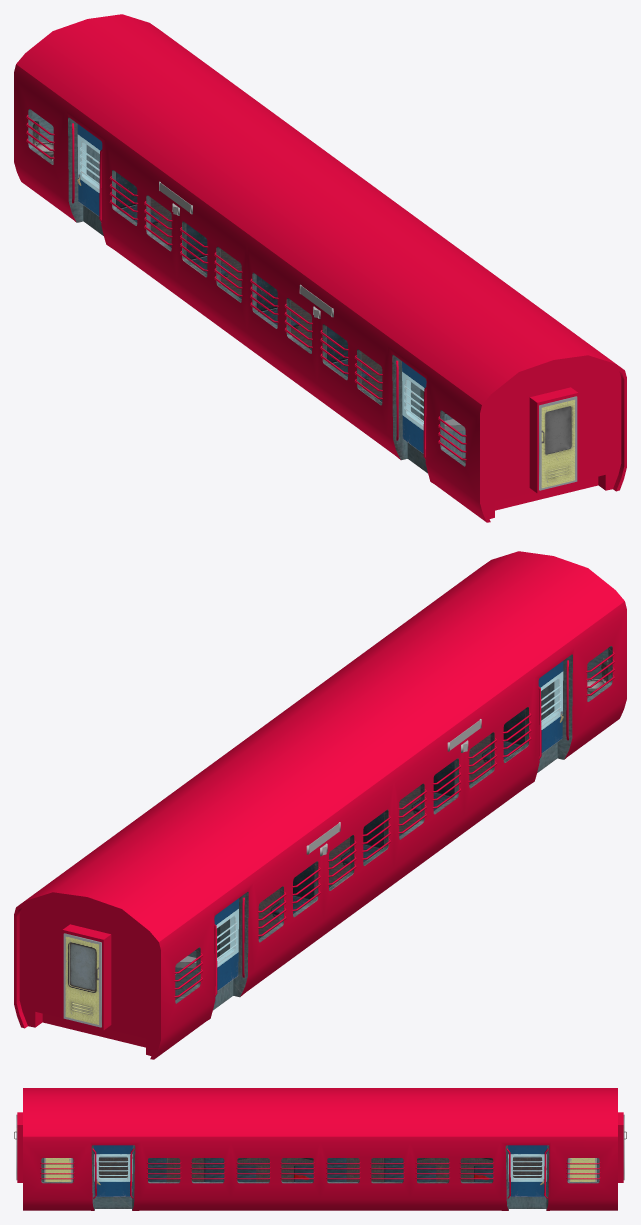
File: indian-coach.glb
3 renders of one model, top to bottom at view 1: azimuth 30°, elevation 25°; view 2: azimuth 150°, elevation 25°; view 3: azimuth 270°, elevation 25°, orthographic. The views are drawn at different scales.
Parts seen in each view (by area): view 1: Train_Prefab__1__Variant, Coach_door__1__1, Compartment_Door__1_, Compartment_Door__2_, Seats1, Seats1_1, Seats2, Seats2_1; view 2: Train_Prefab__1__Variant, Coach_door__1_, Compartment_Door__2_, Compartment_Door__1_, Seats1_1, Seats1, Seats2, Seats2_1; view 3: Train_Prefab__1__Variant, Compartment_Door__1__1, Compartment_Door, Seats2, Seats2_1, Seats1_1, Seats1, Bathroom_Door__2_, Bathroom_Door__1_.
Part boxes in pixels (x1,y1,x2,y2): Train_Prefab__1__Variant: [14, 14, 626, 522]; Coach_door__1__1: [539, 396, 577, 490]; Compartment_Door__1_: [77, 124, 102, 216]; Compartment_Door__2_: [402, 361, 426, 453]; Seats1: [116, 172, 171, 247]; Seats1_1: [256, 275, 311, 350]; Seats2: [186, 223, 241, 298]; Seats2_1: [326, 326, 382, 401]; Train_Prefab__1__Variant: [14, 551, 626, 1059]; Coach_door__1_: [63, 933, 101, 1027]; Compartment_Door__2_: [538, 661, 563, 753]; Compartment_Door__1_: [214, 898, 238, 990]; Seats1_1: [399, 760, 454, 835]; Seats1: [258, 863, 314, 938]; Seats2: [329, 812, 384, 887]; Seats2_1: [469, 709, 524, 784]; Train_Prefab__1__Variant: [17, 1088, 623, 1210]; Compartment_Door__1__1: [93, 1145, 132, 1196]; Compartment_Door: [508, 1145, 547, 1196]; Seats2: [327, 1158, 403, 1181]; Seats2_1: [148, 1158, 224, 1181]; Seats1_1: [237, 1158, 313, 1181]; Seats1: [417, 1158, 493, 1181]; Bathroom_Door__2_: [44, 1158, 72, 1181]; Bathroom_Door__1_: [568, 1158, 596, 1181].
Bounding box in the file's own units: 4.29 × 3.93 × 23.29.
Materials: 8 (7 with a texture image).
